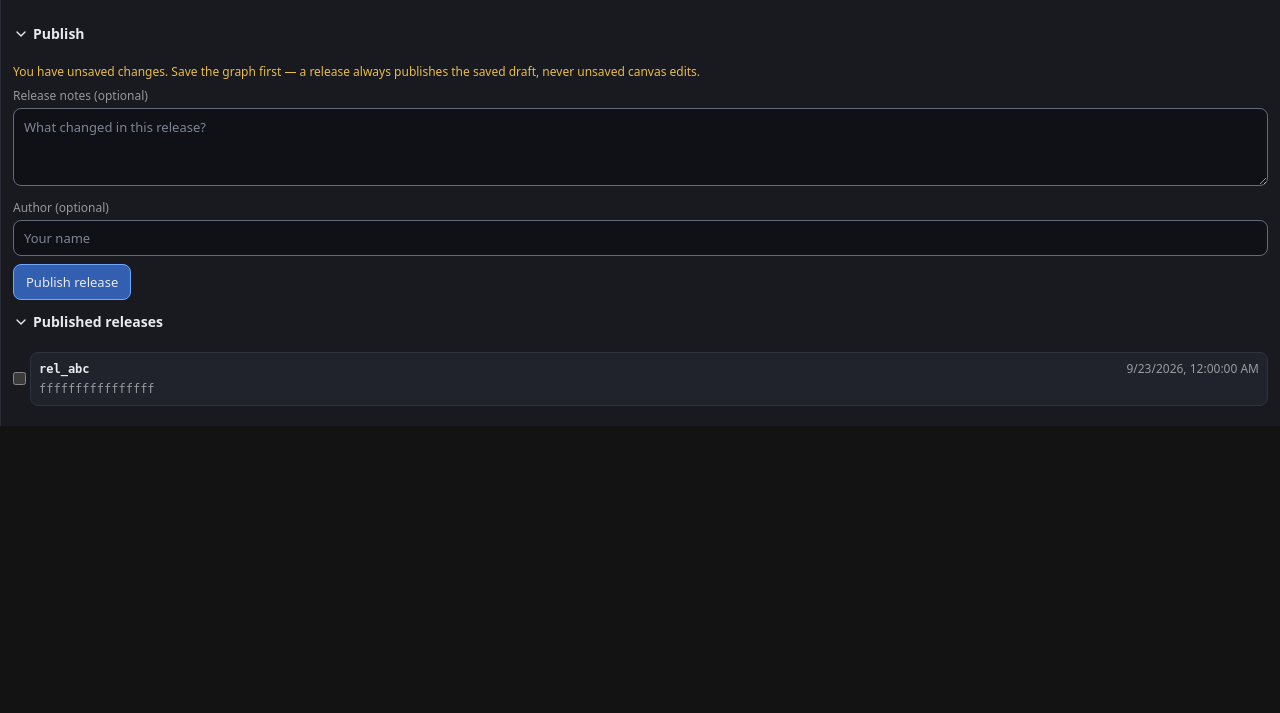
Test: ReleasesPanel · Diff vs draft › diffs the live canvas against a release
Click the button "rel_abc".
click(64, 369)  # box 30,352 -> 1268,406
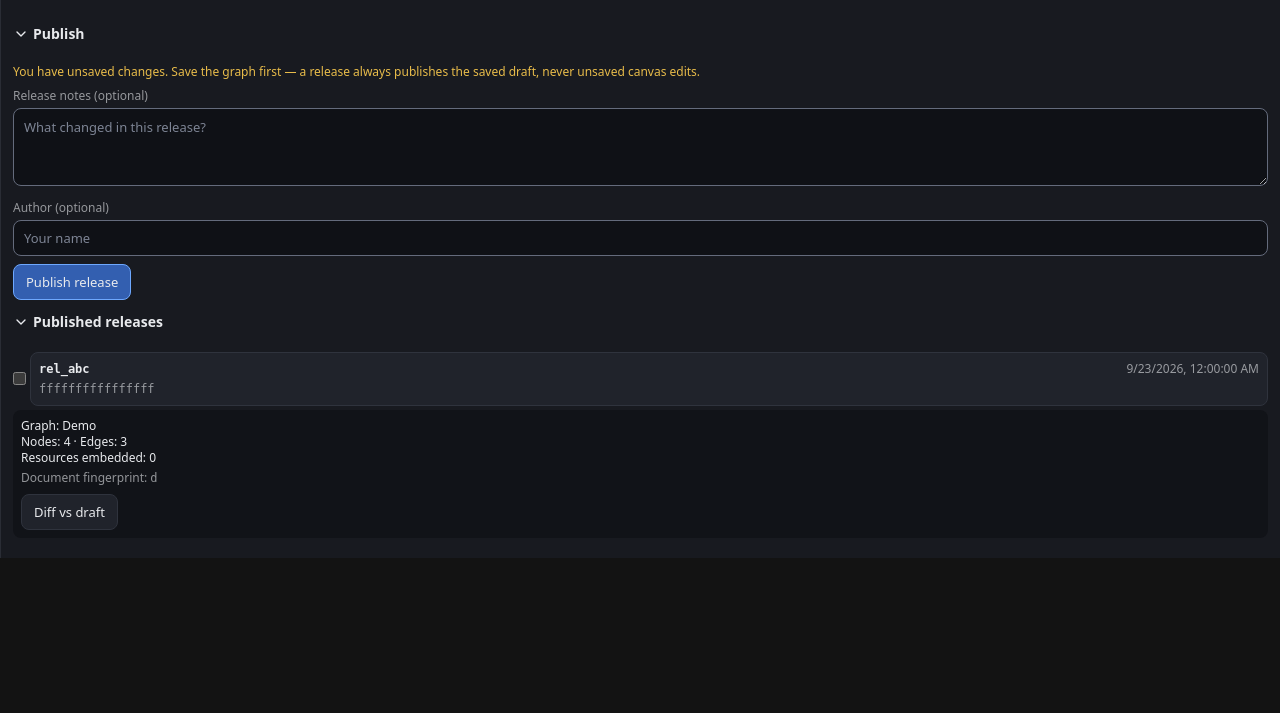
Click the button "Diff vs draft".
click(70, 512)  # box 21,494 -> 118,530
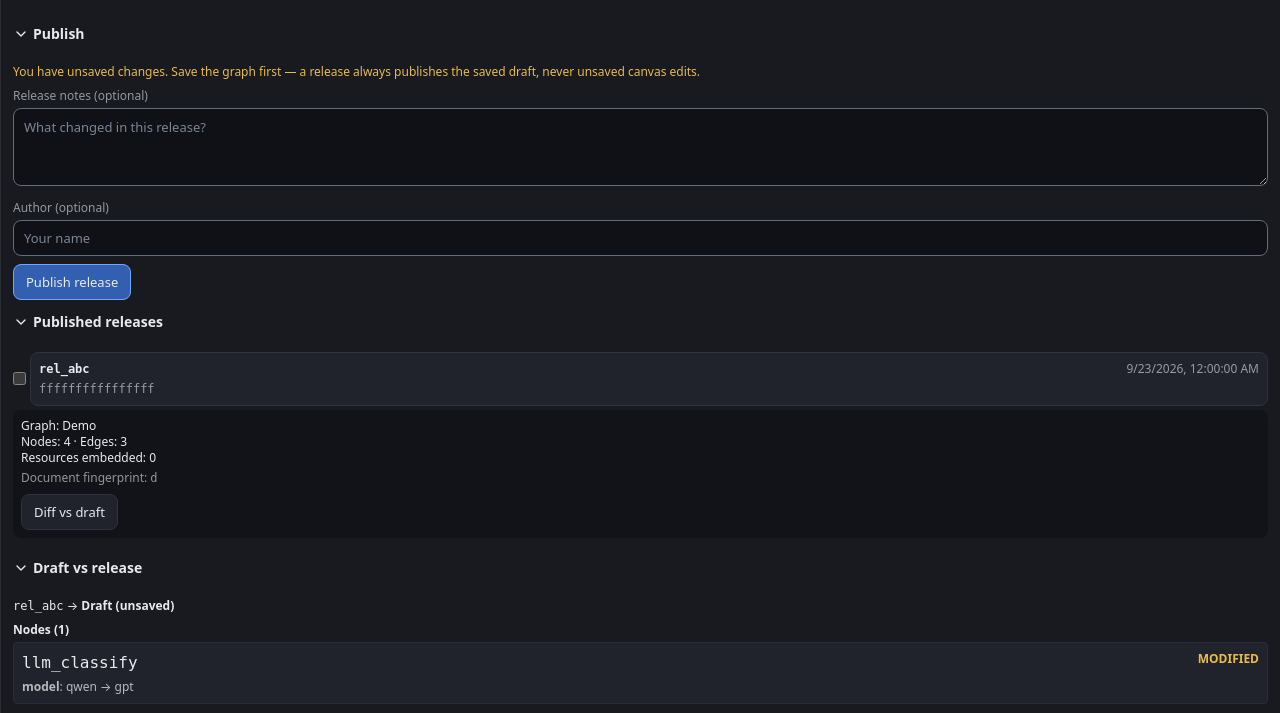
Check: the text "Draft (unsaved)" is shown, box 81,597 -> 174,614
Check: the text "llm_classify" is shown, box 22,651 -> 138,675
